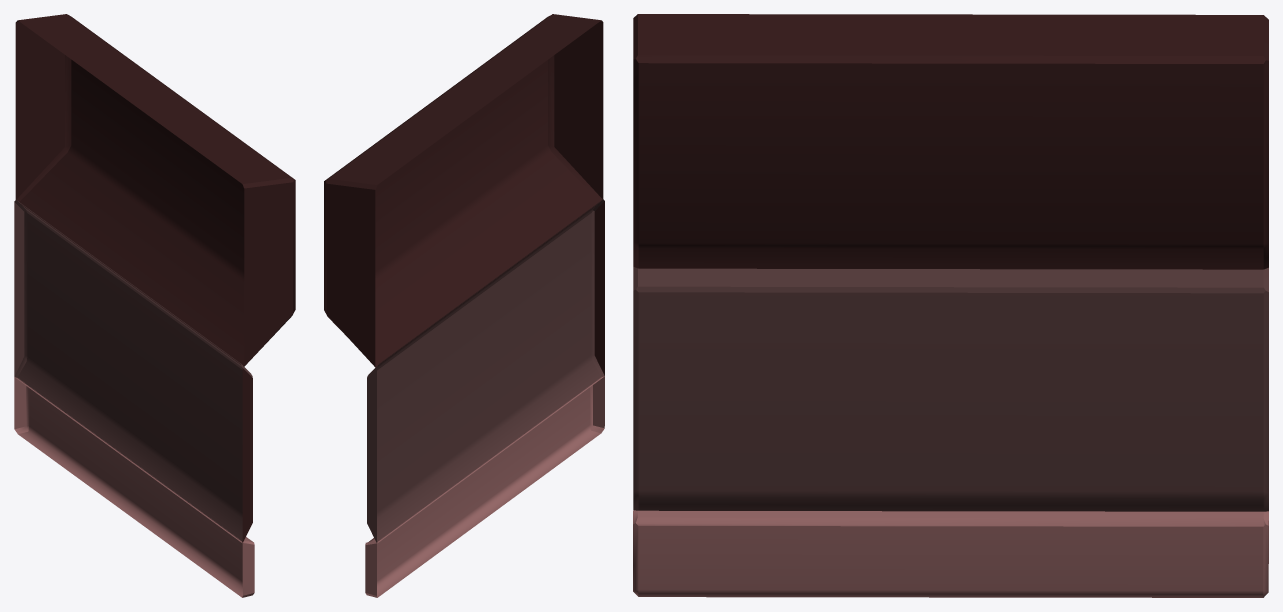
The model's file is Module_Ss_wall_2xK_thick1.FBX.
3 renders of one model, left to right at view 1: azimuth 30°, elevation 25°; view 2: azimuth 150°, elevation 25°; view 3: azimuth 270°, elevation 25°, orthographic. The views are drawn at different scales.
Parts seen in each view (by area): view 1: Module_Ss_wall_2xK_thick1b; view 2: Module_Ss_wall_2xK_thick1b; view 3: Module_Ss_wall_2xK_thick1b.
Part boxes in pixels (x1,y1,x2,y2): Module_Ss_wall_2xK_thick1b: [14, 14, 295, 597]; Module_Ss_wall_2xK_thick1b: [324, 14, 604, 597]; Module_Ss_wall_2xK_thick1b: [633, 14, 1268, 597].
Bounding box in the file's own units: 11.09 × 79.66 × 79.57.
